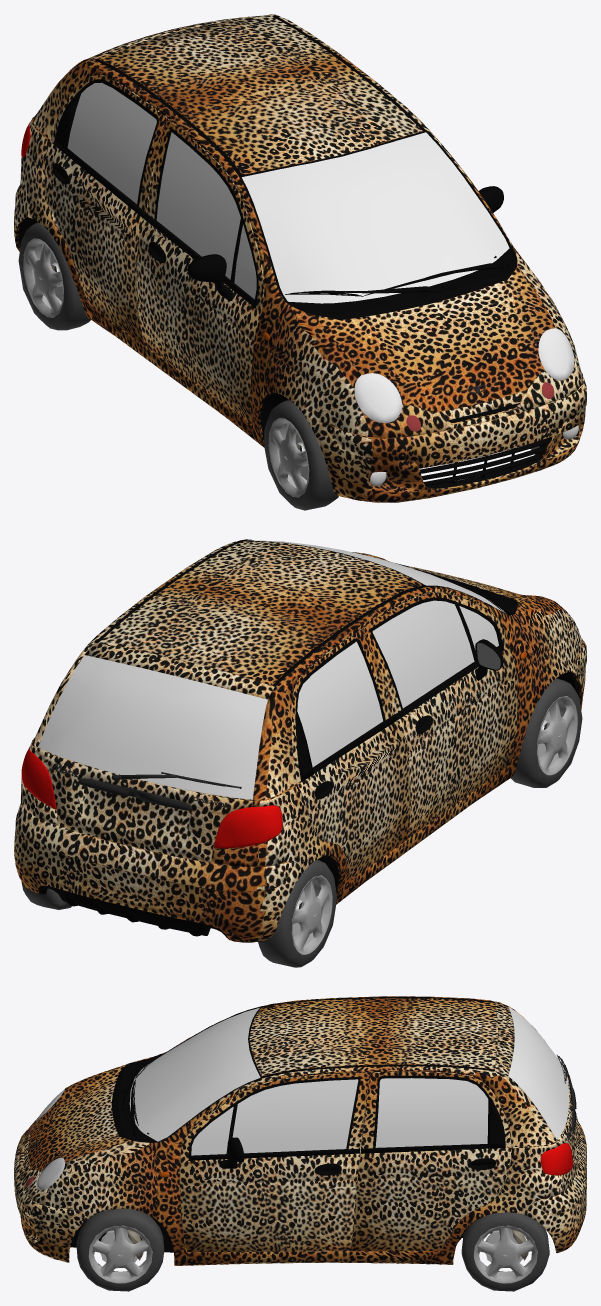
File: matiz.fbx
The picture shows the model from 3 angles, top to bottom: view 1: azimuth 30°, elevation 25°; view 2: azimuth 150°, elevation 25°; view 3: azimuth 270°, elevation 25°; orthographic projection. The views are drawn at different scales.
Parts seen in each view (by area): view 1: car body, door RF, door RB, hood, wheel RF, wheel RB, lights, trunk; view 2: car body, trunk, door RF, door RB, wheel RF, wheel RB, lights, hood, wheel LB; view 3: car body, door LF, door LB, trunk, hood, wheel LF, wheel LB, lights.
Boxes of the visible parts, bbox=[...] form: car body: bbox=[14, 14, 586, 502]; door RF: bbox=[137, 118, 264, 424]; door RB: bbox=[44, 75, 167, 345]; hood: bbox=[314, 265, 555, 412]; wheel RF: bbox=[264, 400, 338, 510]; wheel RB: bbox=[18, 222, 90, 330]; lights: bbox=[21, 122, 578, 486]; trunk: bbox=[87, 15, 273, 59]; car body: bbox=[14, 539, 586, 942]; trunk: bbox=[34, 642, 274, 862]; door RF: bbox=[361, 592, 517, 838]; door RB: bbox=[291, 629, 410, 879]; wheel RF: bbox=[510, 678, 582, 787]; wheel RB: bbox=[258, 859, 337, 967]; lights: bbox=[21, 609, 564, 848]; hood: bbox=[352, 552, 554, 603]; wheel LB: bbox=[21, 881, 71, 909]; car body: bbox=[14, 996, 586, 1265]; door LF: bbox=[179, 1072, 369, 1251]; door LB: bbox=[351, 1071, 511, 1251]; trunk: bbox=[495, 1001, 579, 1176]; hood: bbox=[28, 1063, 131, 1172]; wheel LF: bbox=[76, 1208, 164, 1291]; wheel LB: bbox=[461, 1212, 549, 1291]; lights: bbox=[25, 1089, 572, 1190].
Bounding box in the file's own units: 174 × 145 × 350.
